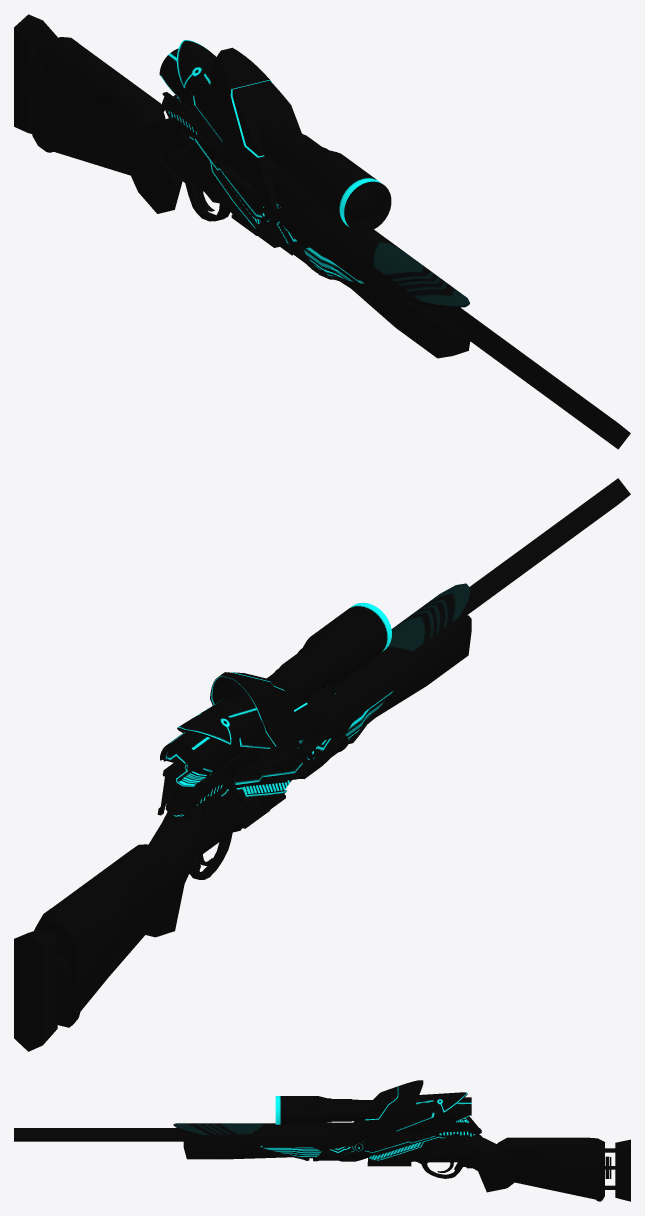
The model's file is blue-night_a.v.as-m24.glb.
3 renders of one model, top to bottom at view 1: azimuth 30°, elevation 25°; view 2: azimuth 150°, elevation 25°; view 3: azimuth 270°, elevation 25°, orthographic. The views are drawn at different scales.
Parts seen in each view (by area): view 1: Object_2; view 2: Object_2; view 3: Object_2.
Part boxes in pixels (x1=…): Object_2: x1=14, y1=14, x2=630, y2=449; Object_2: x1=14, y1=478, x2=630, y2=1051; Object_2: x1=14, y1=1080, x2=630, y2=1201.
Bounding box in the file's own units: 4.17 × 12.87 × 59.91.
1 material, 1 textured.
